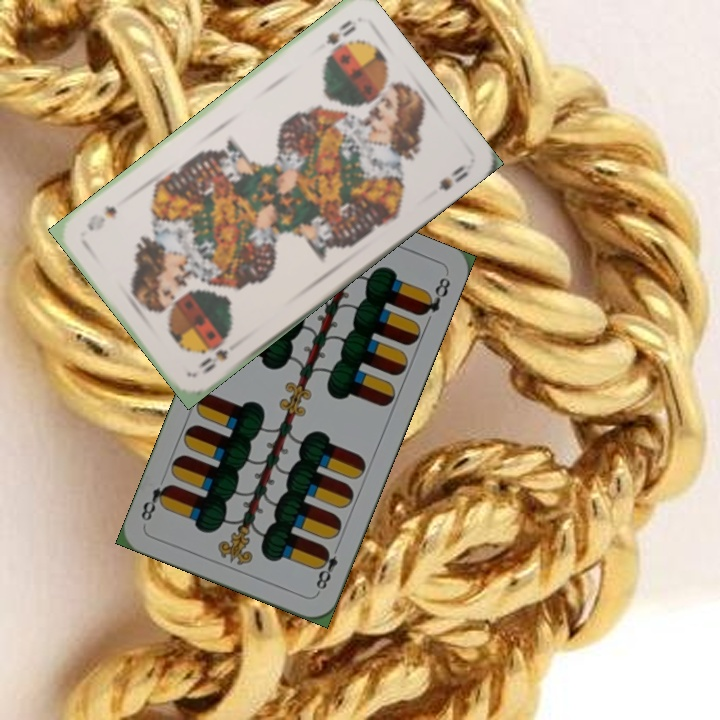E8: (312, 540, 343, 596)
SO: (193, 336, 231, 377), (322, 15, 359, 48)
